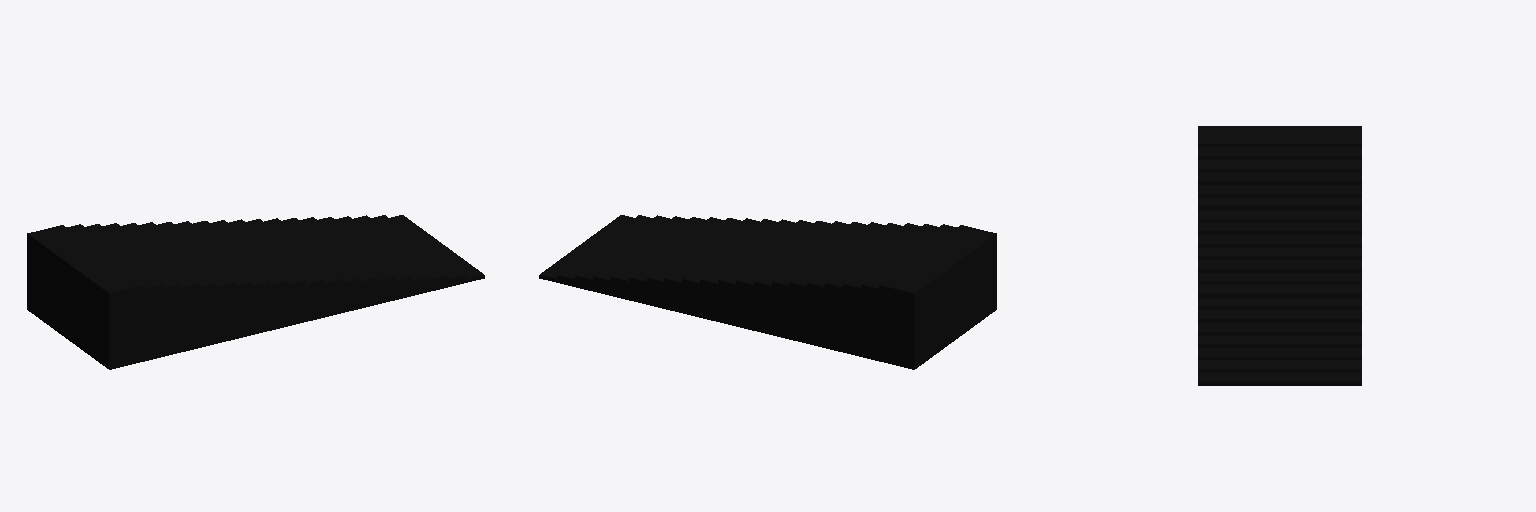
File: stair.obj
3 views of the same model, side by side, from view 1: azimuth 30°, elevation 25°; view 2: azimuth 150°, elevation 25°; view 3: azimuth 270°, elevation 25° (orthographic).
Visible parts, largest first — view 1: Cube.010; view 2: Cube.010; view 3: Cube.010.
Part boxes in pixels (x1,y1,x2,y2): Cube.010: (27,215,484,369); Cube.010: (539,215,996,369); Cube.010: (1198,126,1361,385).
Size of the model in its own units: 10.28 by 2 by 3.9.